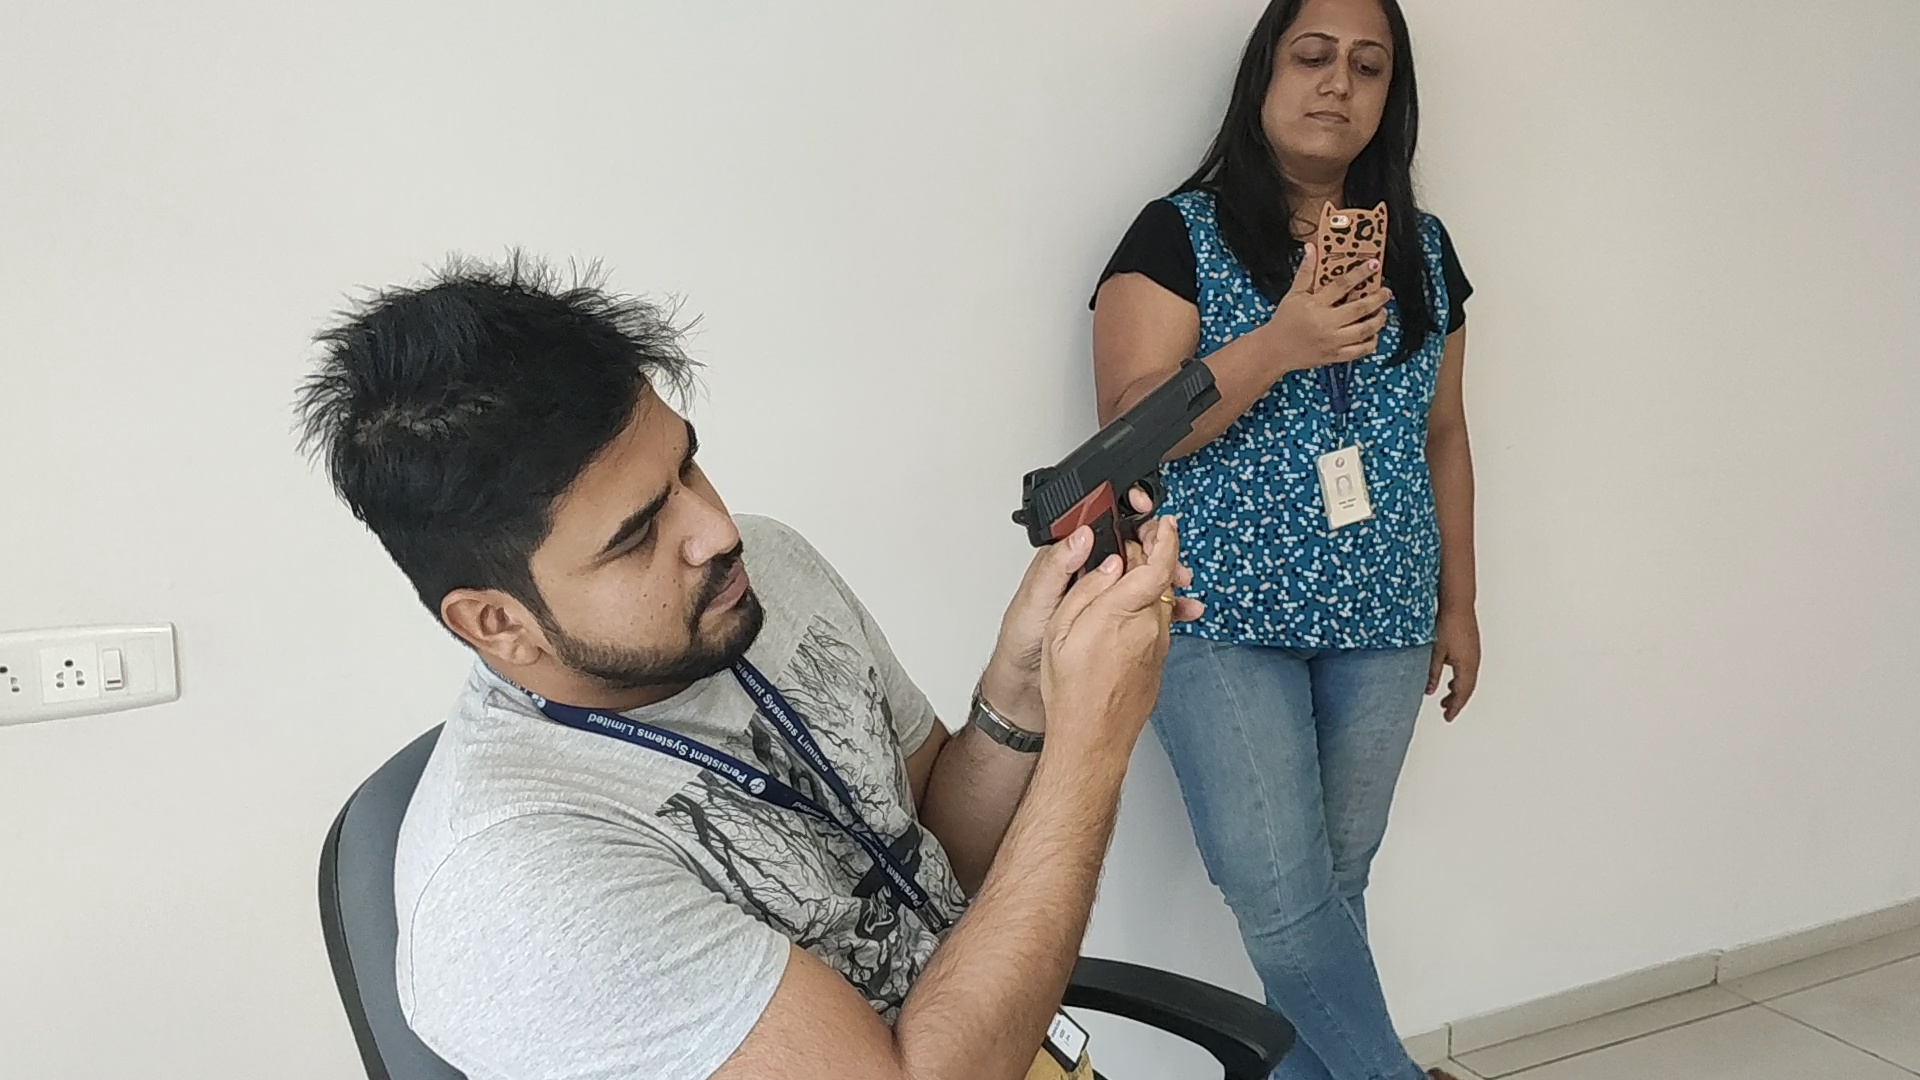gun: (1011, 359, 1222, 514)
